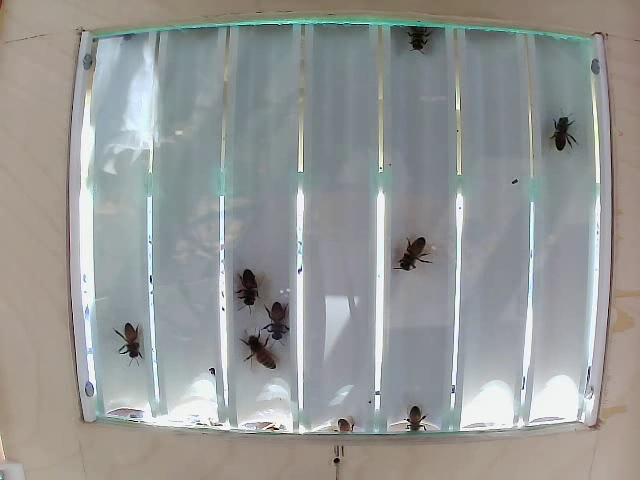bee: (97, 308, 144, 349), (242, 331, 285, 375), (268, 303, 316, 339), (223, 264, 262, 304), (398, 238, 431, 276), (556, 117, 582, 157), (402, 24, 432, 58)
